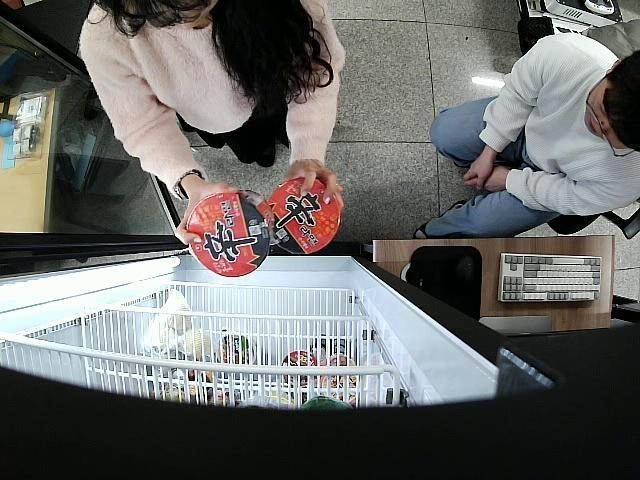01_ShinRamen_L: (188, 189, 268, 277), (266, 181, 342, 252)
